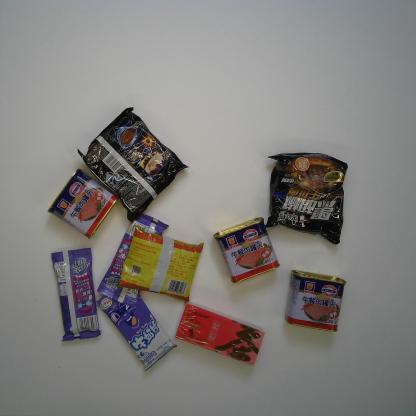Candy: (94, 281, 178, 373), (94, 212, 169, 307), (52, 245, 102, 343)
Canned Food: (46, 167, 118, 241), (213, 214, 281, 285), (285, 268, 348, 334)
Instant Drink: (170, 301, 267, 366)
Instant Noodles: (77, 105, 190, 225), (263, 148, 349, 244)
Seasoner: (116, 225, 206, 303)
